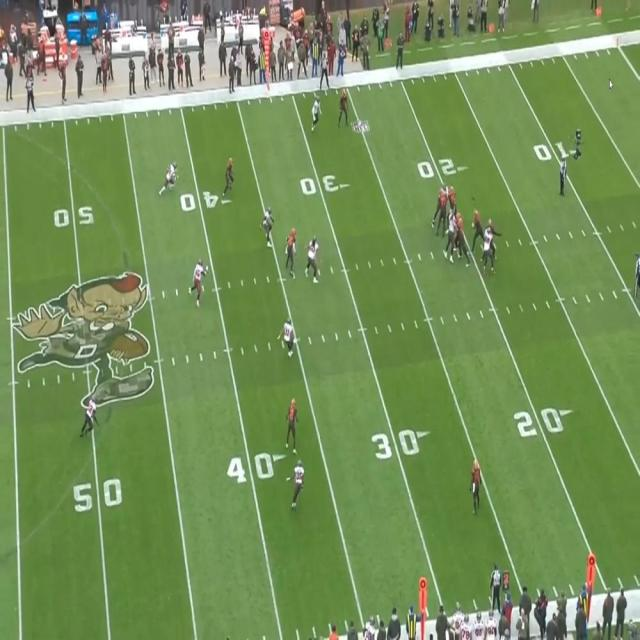db: (294, 460, 307, 508), (82, 395, 97, 434), (282, 319, 294, 355), (165, 164, 178, 194), (314, 95, 322, 132)
lb: (195, 262, 207, 305), (263, 208, 273, 249), (310, 236, 316, 282)
qb: (472, 207, 482, 253)
skill: (469, 457, 482, 512), (286, 398, 298, 451), (286, 228, 298, 272), (227, 157, 236, 196), (340, 90, 348, 122)
